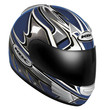helmet: (15, 8, 97, 102)
